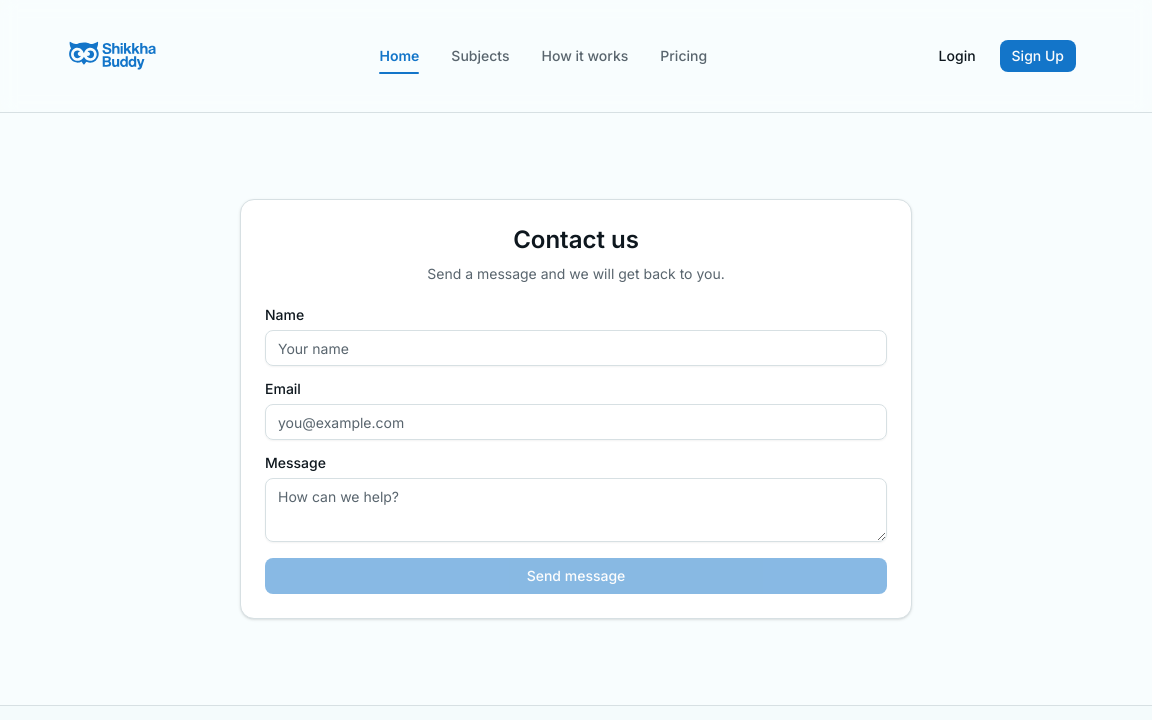
Scenario: contact page › shows backend validation errors and preserves form values
This screenshot has width=1152, height=720.
In the field labelled "Name": (576, 348) [265,330,887,366], type "Student Name"
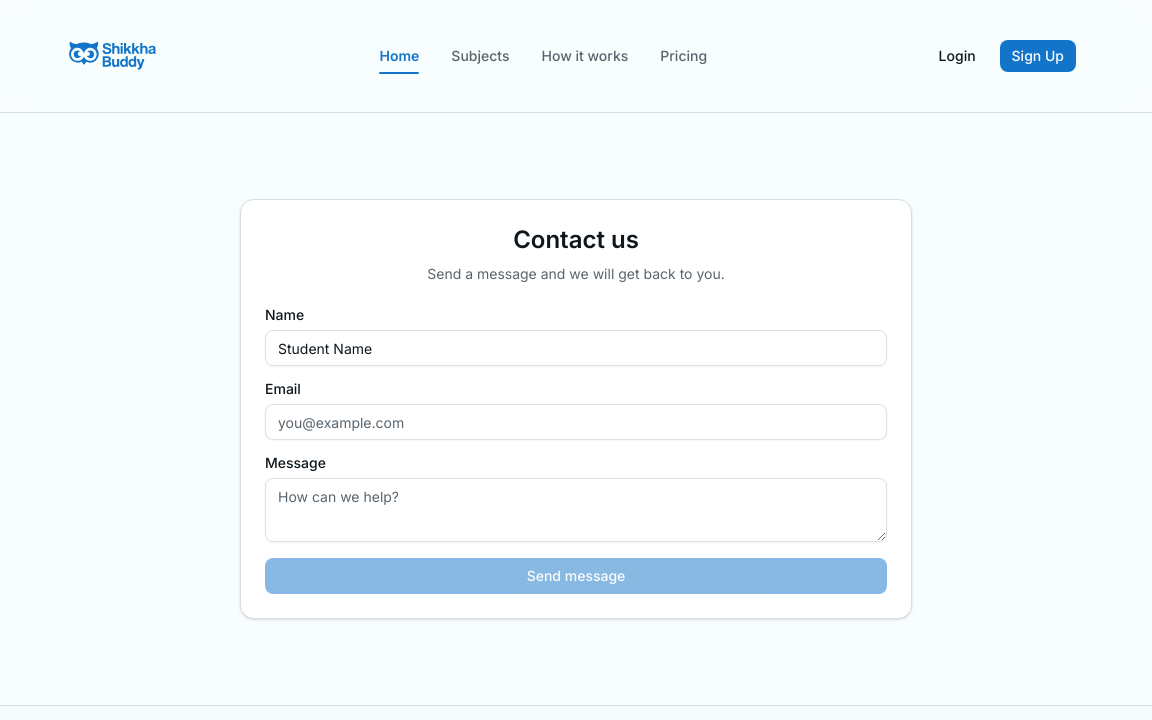
In the field labelled "Email": (576, 422) [265,404,887,440], type "student@example.com"
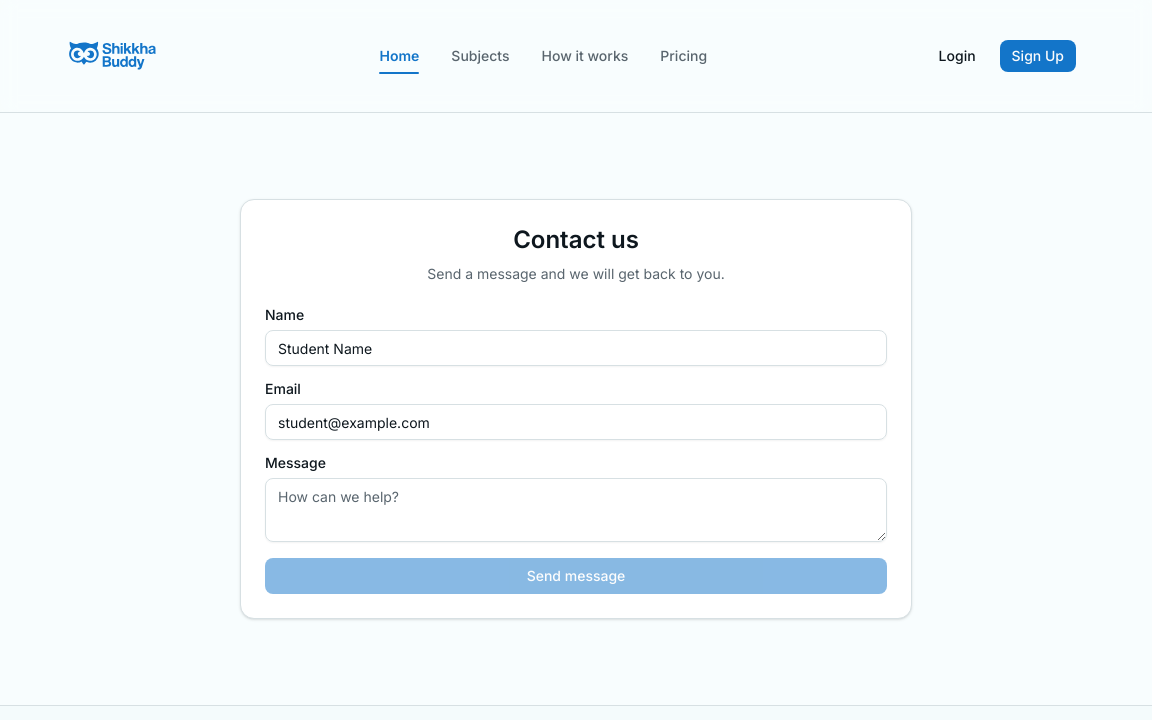
In the text box labelled "Message": (576, 510) [265,478,887,542], type "I need help with the platform."
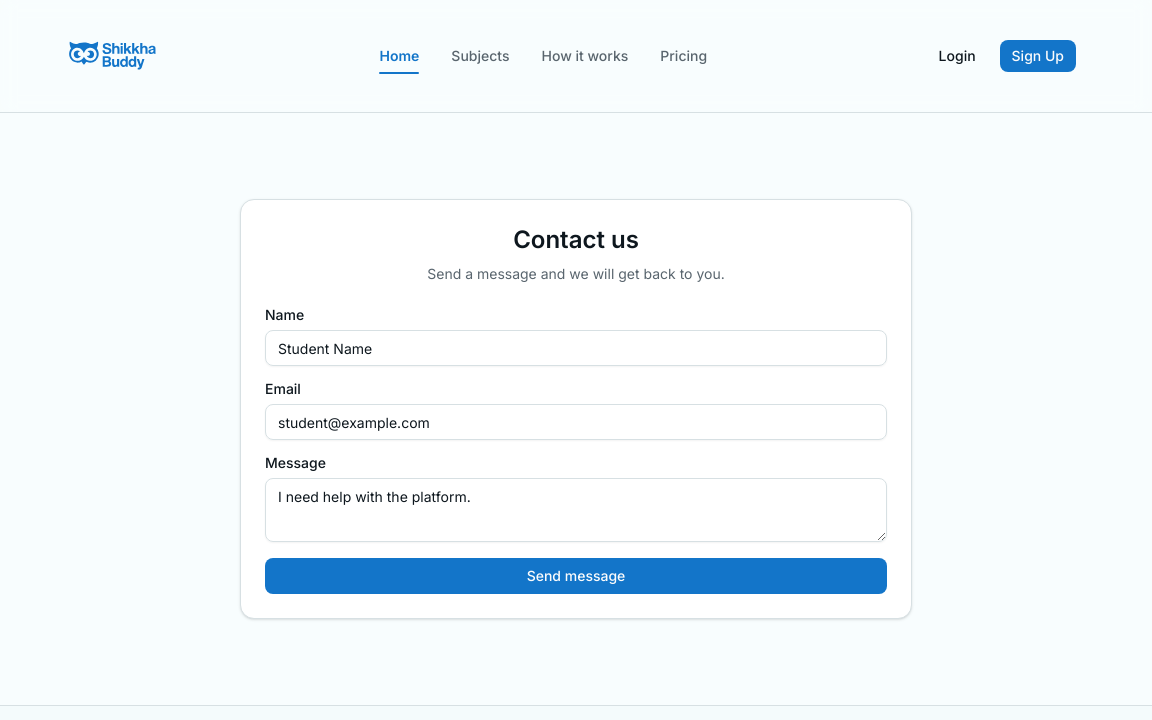
Click the button "Send message": (576, 576) [265,558,887,594]
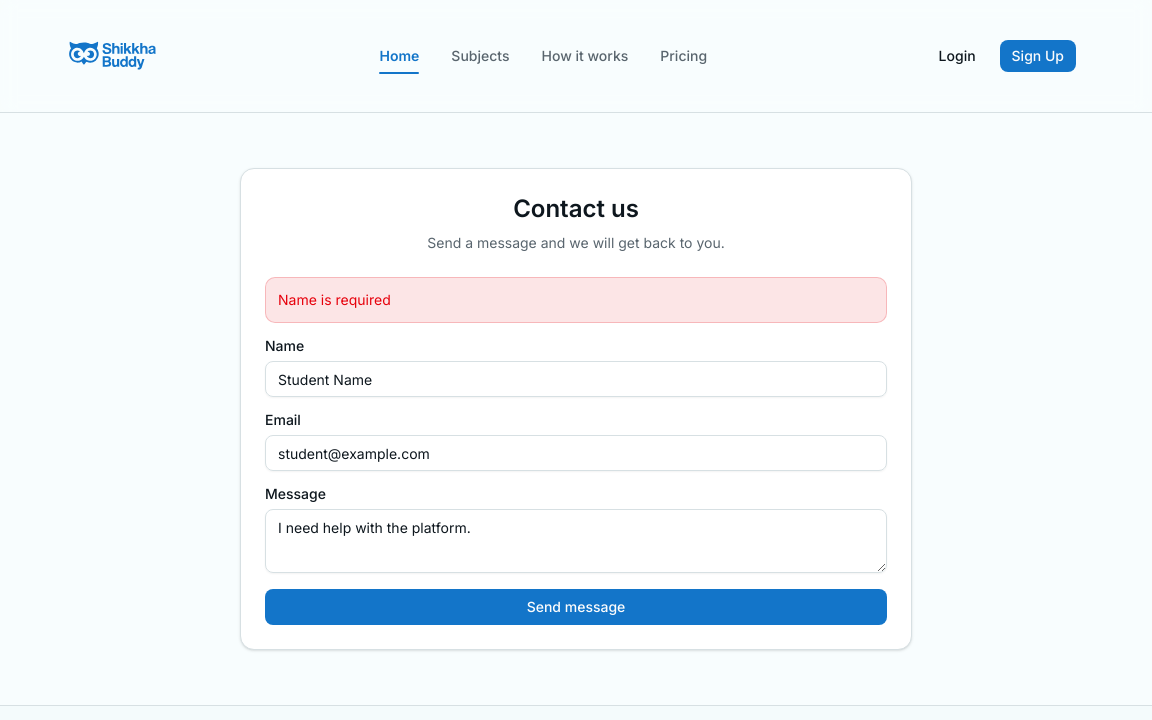
Now the text "Name is required" is shown, box [265,277,887,323]
